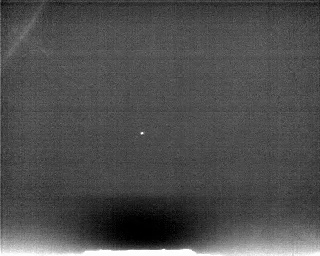BIRD: (138, 128, 146, 138)
